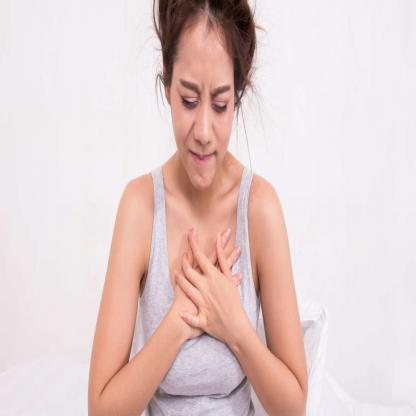pain: (177, 73, 231, 119)
